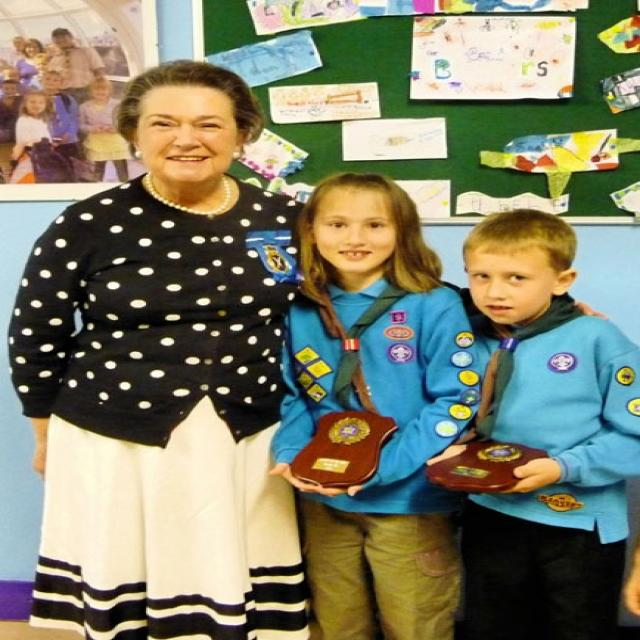body: (0, 58, 616, 639), (267, 167, 492, 639), (442, 207, 640, 640), (0, 26, 139, 186)
